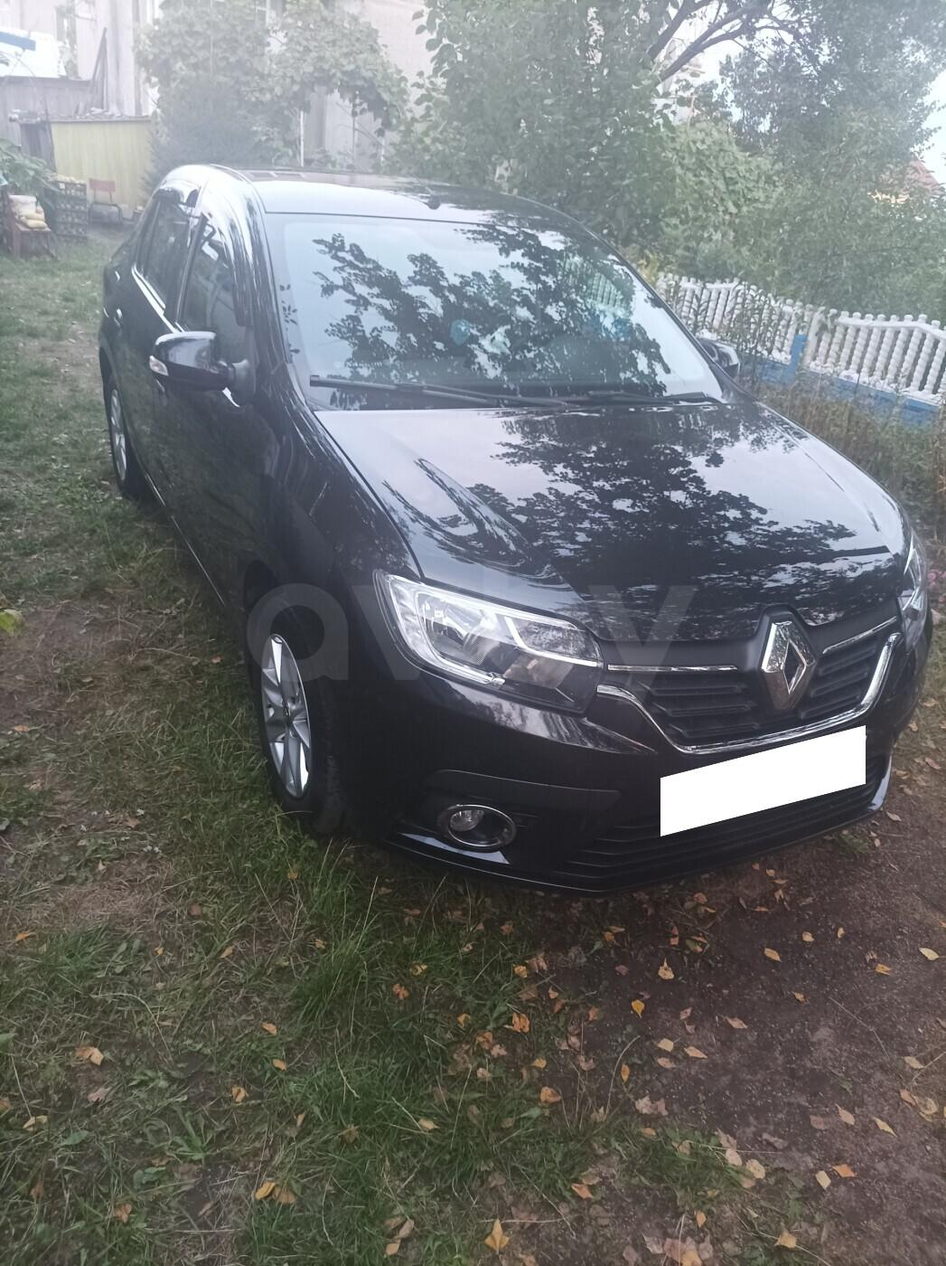Logan_2018: (98, 154, 946, 883)
